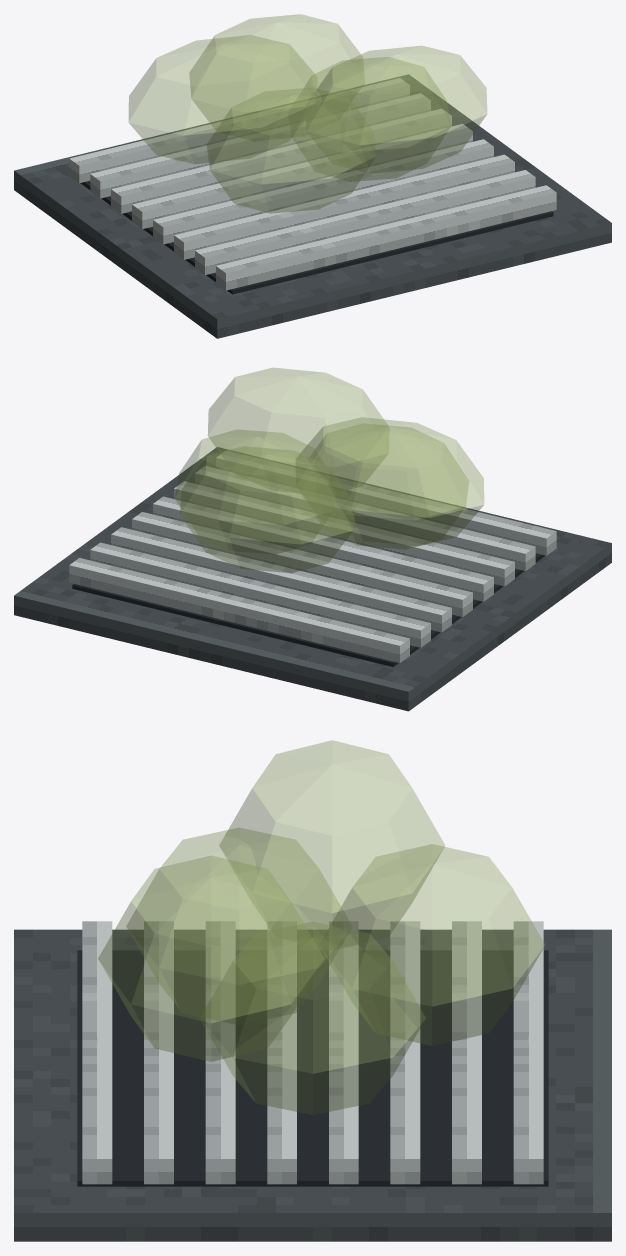
Rendered from f_vent_toxic_leak.glb.
The picture shows the model from 3 angles, top to bottom: view 1: azimuth 30°, elevation 25°; view 2: azimuth 150°, elevation 25°; view 3: azimuth 270°, elevation 25°; orthographic projection. The views are drawn at different scales.
Parts seen in each view (by area): view 1: block_soft-edged-vent-plume (×5), block_metal-grate-slat (×8), block_floor-vent-frame, block_dark-duct-opening; view 2: block_soft-edged-vent-plume (×5), block_metal-grate-slat (×8), block_floor-vent-frame, block_dark-duct-opening; view 3: block_soft-edged-vent-plume (×5), block_floor-vent-frame, block_metal-grate-slat (×8), block_dark-duct-opening.
Part boxes in pixels (bbox=[...]): block_soft-edged-vent-plume (×5): bbox=[129, 14, 486, 213]; block_metal-grate-slat (×8): bbox=[69, 78, 556, 290]; block_floor-vent-frame: bbox=[14, 74, 611, 338]; block_dark-duct-opening: bbox=[80, 181, 553, 294]; block_soft-edged-vent-plume (×5): bbox=[175, 368, 483, 572]; block_metal-grate-slat (×8): bbox=[69, 451, 556, 662]; block_floor-vent-frame: bbox=[14, 447, 611, 711]; block_dark-duct-opening: bbox=[72, 553, 545, 666]; block_soft-edged-vent-plume (×5): bbox=[98, 740, 544, 1114]; block_floor-vent-frame: bbox=[14, 929, 611, 1241]; block_metal-grate-slat (×8): bbox=[82, 921, 543, 1184]; block_dark-duct-opening: bbox=[77, 950, 548, 1186].
Bounding box in the file's own units: 0.74 × 0.336 × 0.66.
Materials: 2 (2 with a texture image).
